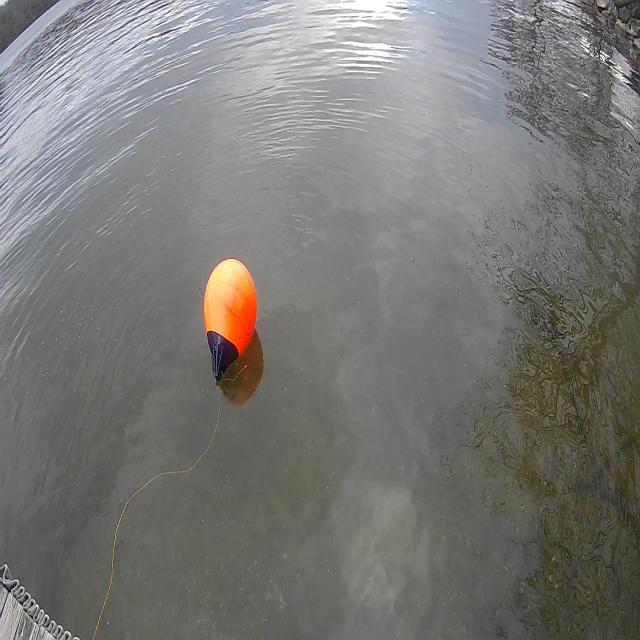Buoy: (189, 248, 271, 399)
